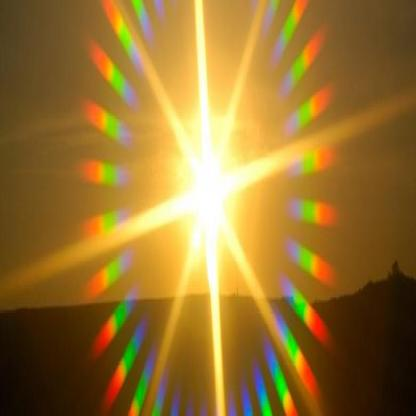other: (80, 1, 345, 413)
